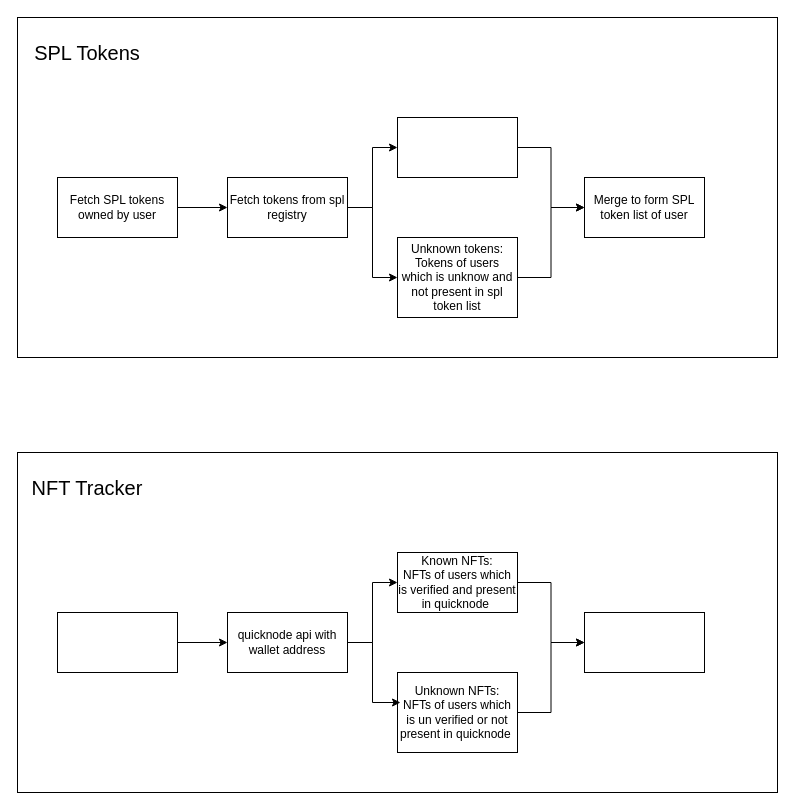
This 795x810 diagram has some shape labels left out. Each missing label, with the box of its shape:
Fetch NFTs owned by user: (56, 612, 178, 672)
Known tokens: Tokens of users which is present in spl token list: (396, 116, 518, 178)
Merge to form NFTs list of user: (584, 612, 704, 672)
